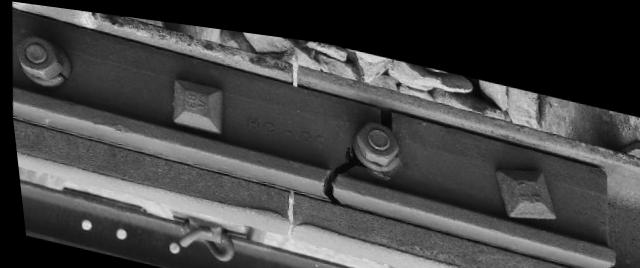person: (251, 172, 323, 242), (267, 40, 321, 94)
